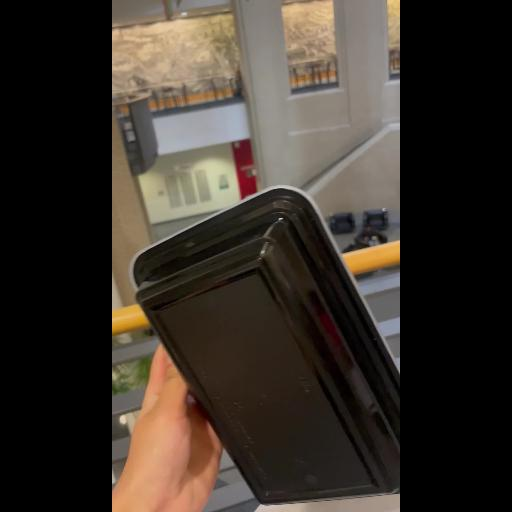rigid_plastic_container: (129, 186, 393, 504)
